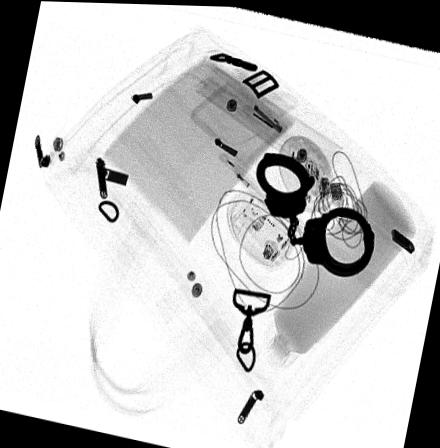HandCuffs: (254, 149, 374, 274)
